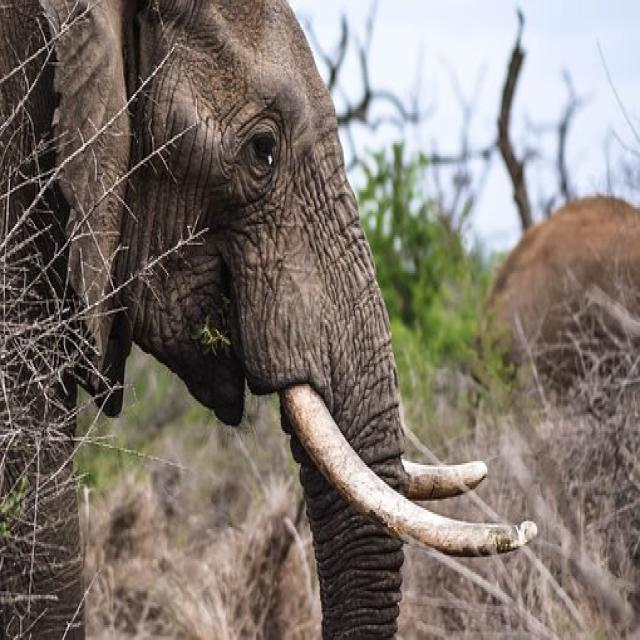Elephant: (6, 0, 548, 640)
